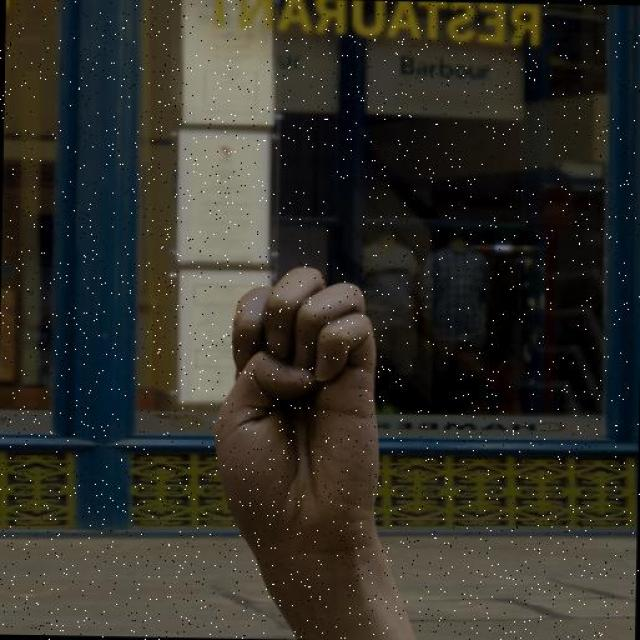E: (207, 262, 386, 534)
